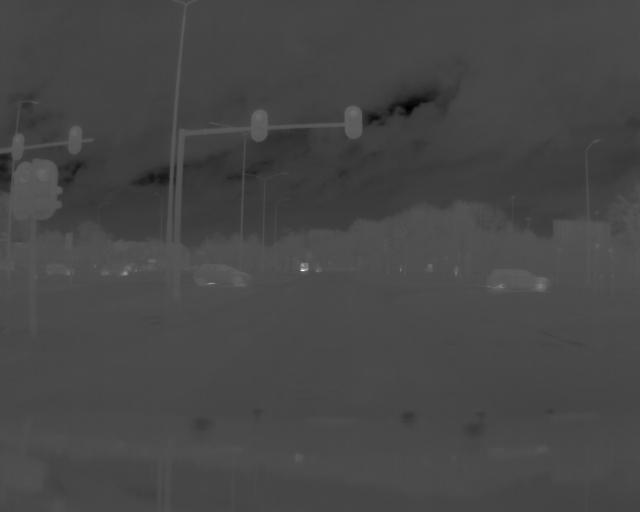car: (485, 264, 553, 294), (192, 260, 251, 289), (44, 259, 76, 276)
